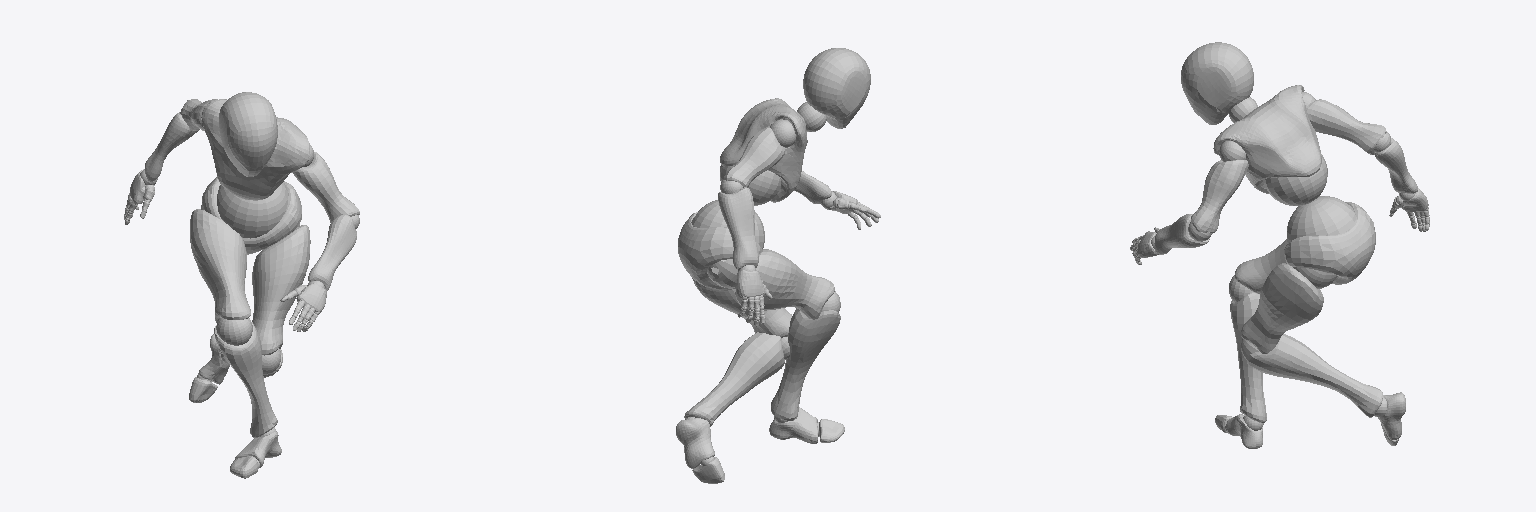
3 renders of one model, left to right at view 1: azimuth 30°, elevation 25°; view 2: azimuth 150°, elevation 25°; view 3: azimuth 270°, elevation 25°, orthographic.
Parts seen in each view (by area): view 1: Beta_Surface, Beta_Joints; view 2: Beta_Surface, Beta_Joints; view 3: Beta_Surface, Beta_Joints.
Boxes of the visible parts, x1,y1,x2,y2 form: Beta_Surface: [124, 92, 359, 478]; Beta_Joints: [124, 109, 359, 467]; Beta_Surface: [676, 48, 880, 483]; Beta_Joints: [685, 102, 875, 465]; Beta_Surface: [1130, 42, 1429, 448]; Beta_Joints: [1131, 92, 1429, 433].
Bounding box in the file's own units: 0.4884 × 1.4 × 0.9924.